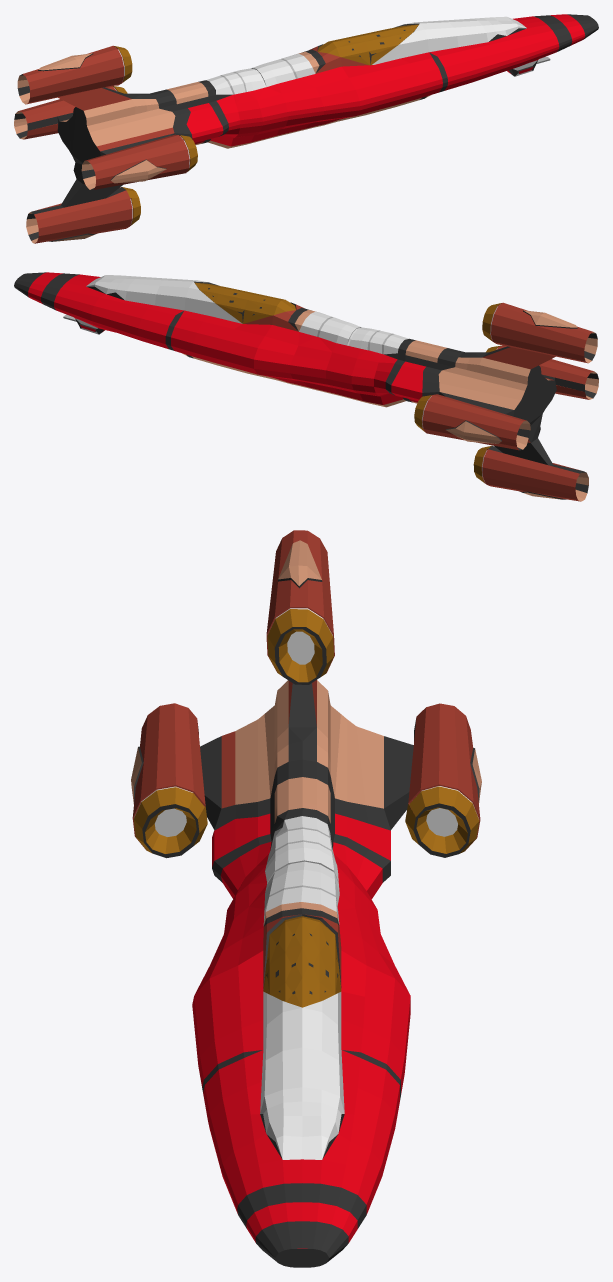
The model's file is ShieldUpg.fbx.
The picture shows the model from 3 angles, top to bottom: view 1: azimuth 30°, elevation 25°; view 2: azimuth 150°, elevation 25°; view 3: azimuth 270°, elevation 25°; orthographic projection. The views are drawn at different scales.
Visible parts, largest first — view 1: SoloShield; view 2: SoloShield; view 3: SoloShield.
Boxes of the visible parts, left/top/right/bottom form: SoloShield: left=14, top=14, right=598, bottom=243; SoloShield: left=14, top=272, right=598, bottom=501; SoloShield: left=131, top=530, right=481, bottom=1267.
Bounding box in the file's own units: 471 × 144 × 126.
